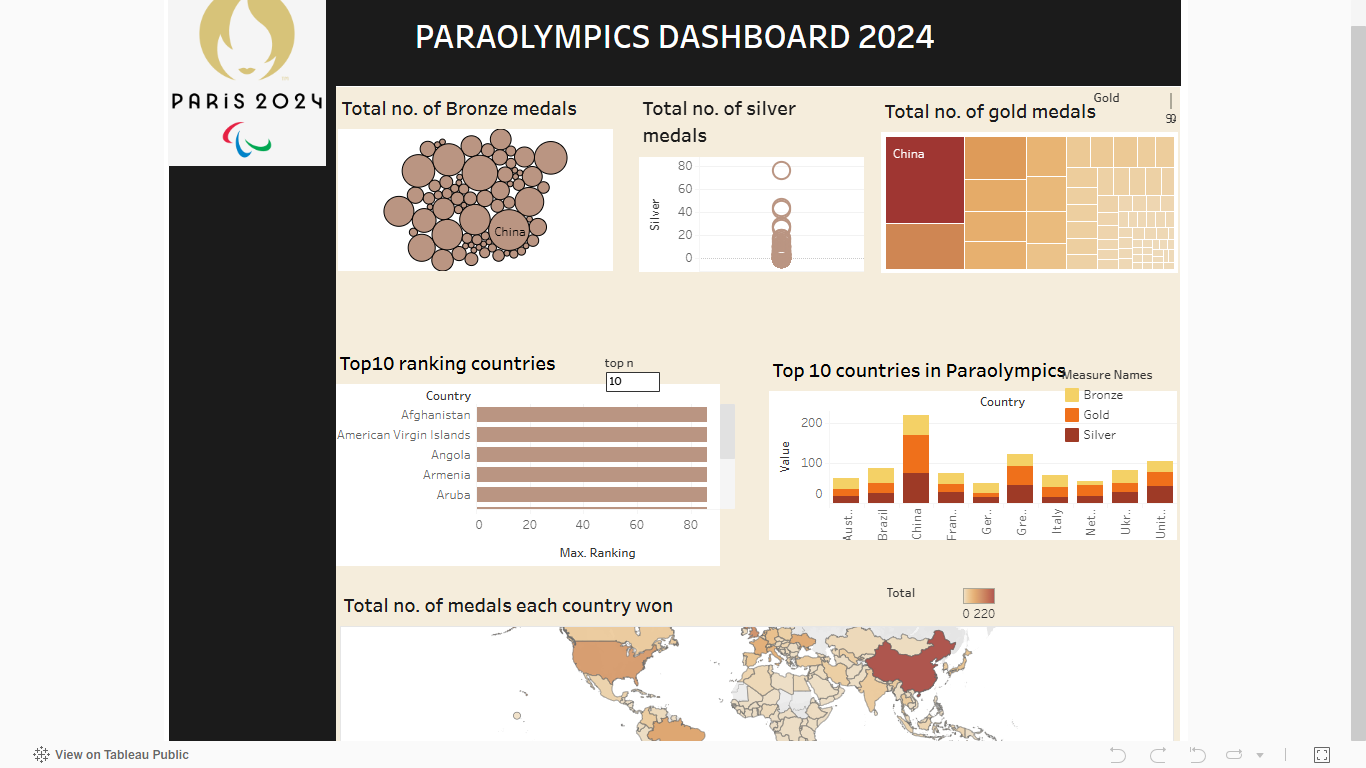

This screenshot's page, from the dashboard's own definition file:
{"tool":"tableau","page":{"name":"Dashboard ","canvas":[1024,768],"ordinal":0},"visuals":[{"type":"text","box":[1,6,1020,111]},{"type":"image","param":"Image/2024_Summer_Paralympics_logo.svg.png","box":[4,9,158,184]},{"type":"worksheet","title":"Total no. of Bronze medals","mark":"Circle","box":[174,114,275,184]},{"type":"worksheet","title":"Total no. of silver medals","mark":"Shape","rows":["Silver"],"box":[475,115,225,184]},{"type":"legend","title":"Total no. of gold medals","param":"[federated.057vfmt0fy376l18fifmp0byksq7].[sum:Gold:qk]","box":[930,116,82,41]},{"type":"worksheet","title":"Total no. of gold medals","mark":"Automatic","box":[717,117,297,184]},{"type":"worksheet","title":"Top rankings","mark":"Automatic","rows":["Country"],"cols":["Ranking"],"box":[172,369,402,224]},{"type":"worksheet","title":"Total medals","mark":"Automatic","cols":["Country"],"box":[605,376,408,192]},{"type":"parameter","param":"[Parameters].[Parameter 1]","box":[441,380,56,44]},{"type":"legend","title":"Total medals","param":"[federated.057vfmt0fy376l18fifmp0byksq7].[:Measure Names]","box":[898,393,100,78]},{"type":"legend","title":"Total no. of medals each country won","param":"[federated.057vfmt0fy376l18fifmp0byksq7].[sum:Total:qk]","box":[723,611,112,36]}]}

Visuals, with their boxes on the page's 1024x768 design canvas (x1, y1, x2, y2). These are canvas units, not pixel positions in the 1366x768 screenshot, which may show the page scaled, cropped or inside an application window:
text: [left=1, top=6, right=1021, bottom=117]
image: [left=4, top=9, right=162, bottom=193]
"Total no. of Bronze medals" worksheet (Circle marks): [left=174, top=114, right=449, bottom=298]
"Total no. of silver medals" worksheet (Shape marks): [left=475, top=115, right=700, bottom=299]
"Total no. of gold medals" legend: [left=930, top=116, right=1012, bottom=157]
"Total no. of gold medals" worksheet: [left=717, top=117, right=1014, bottom=301]
"Top rankings" worksheet: [left=172, top=369, right=574, bottom=593]
"Total medals" worksheet: [left=605, top=376, right=1013, bottom=568]
parameter: [left=441, top=380, right=497, bottom=424]
"Total medals" legend: [left=898, top=393, right=998, bottom=471]
"Total no. of medals each country won" legend: [left=723, top=611, right=835, bottom=647]
